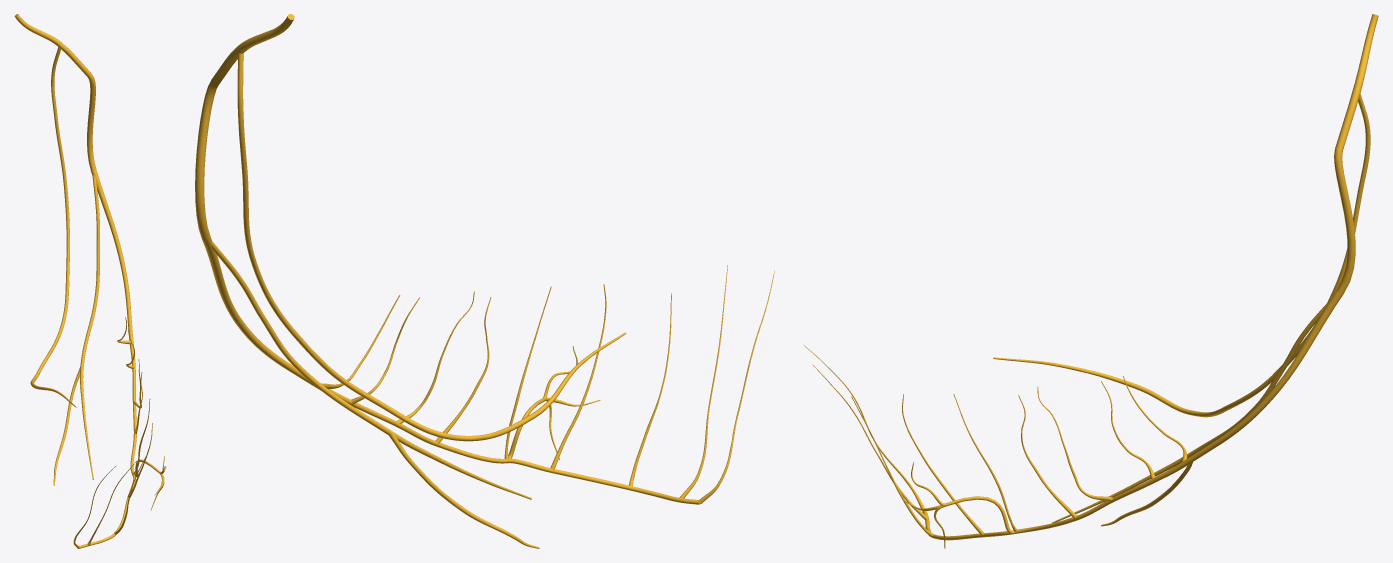
Rendered from nervoso-posterior-division-of-mandibular-nerve-l.glb.
3 views of the same model, side by side, from view 1: azimuth 30°, elevation 25°; view 2: azimuth 150°, elevation 25°; view 3: azimuth 270°, elevation 25° (orthographic). The views are drawn at different scales.
Parts seen in each view (by area): view 1: Inferior alveolar nerve.l, Lingual nerve.l, Nerve to mylohyoid muscle.l, Posterior division of mandibular nerve.l; view 2: Inferior alveolar nerve.l, Lingual nerve.l, Nerve to mylohyoid muscle.l, Posterior division of mandibular nerve.l; view 3: Inferior alveolar nerve.l, Lingual nerve.l, Posterior division of mandibular nerve.l, Nerve to mylohyoid muscle.l.
Boxes of the visible parts, x1,y1,x2,y2 form: Inferior alveolar nerve.l: (73,169,159,548); Lingual nerve.l: (30,47,76,407); Nerve to mylohyoid muscle.l: (53,175,99,485); Posterior division of mandibular nerve.l: (14,14,96,170); Inferior alveolar nerve.l: (202,237,774,504); Lingual nerve.l: (237,53,626,441); Nerve to mylohyoid muscle.l: (211,241,539,548); Posterior division of mandibular nerve.l: (195,14,294,241); Inferior alveolar nerve.l: (804,290,1343,540); Lingual nerve.l: (993,93,1370,417); Posterior division of mandibular nerve.l: (1334,14,1378,294); Nerve to mylohyoid muscle.l: (1052,299,1330,526).
Size of the model in its own units: 0.0356 by 0.0762 by 0.0701.
